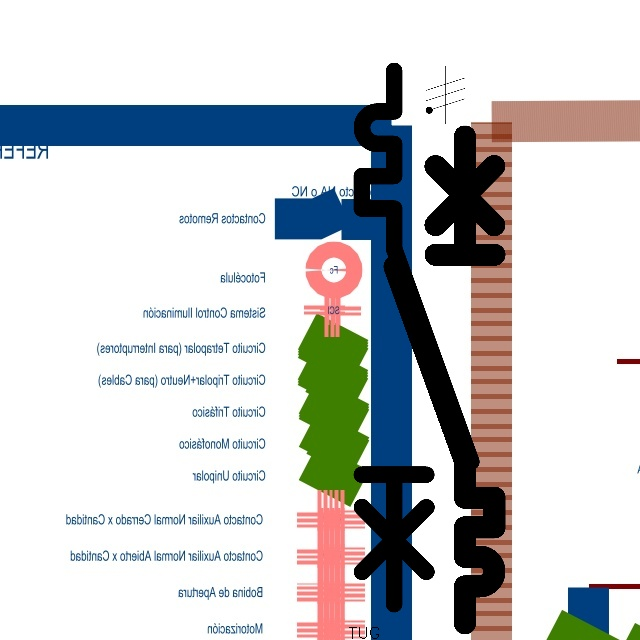interruptor_termomagnetico: (348, 57, 485, 618), (382, 123, 507, 635)
